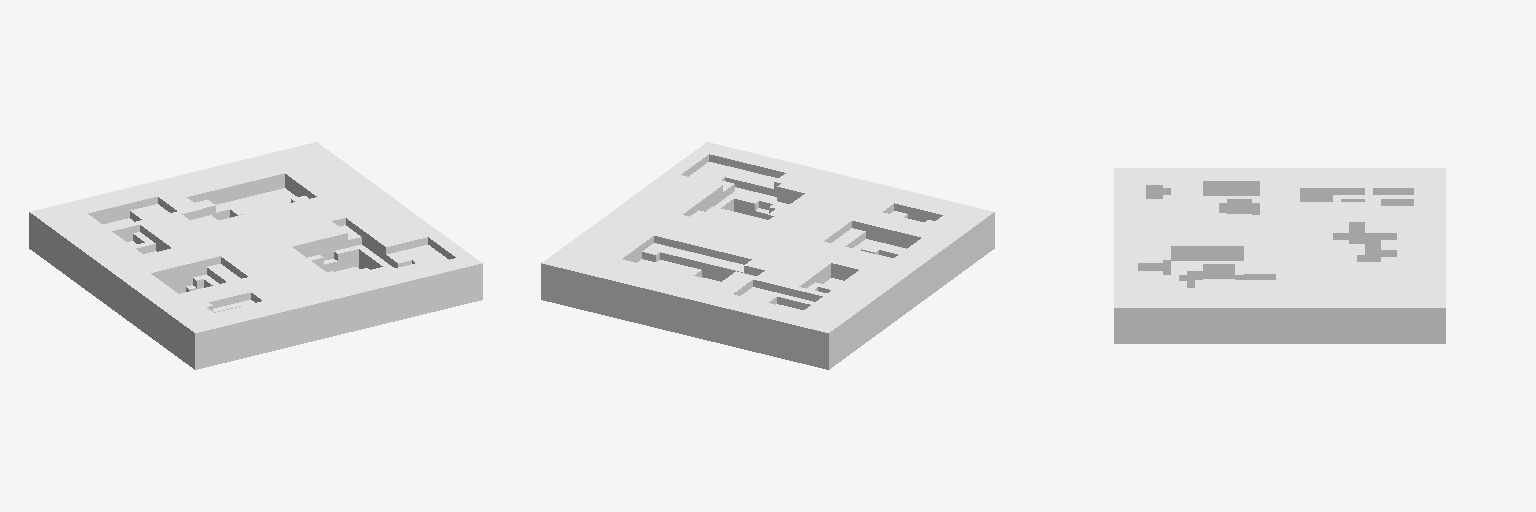
File: recta_suelo_roto.obj
3 views of the same model, side by side, from view 1: azimuth 30°, elevation 25°; view 2: azimuth 150°, elevation 25°; view 3: azimuth 270°, elevation 25° (orthographic).
Visible parts, largest first — view 1: recta_suelo_roto; view 2: recta_suelo_roto; view 3: recta_suelo_roto.
Boxes of the visible parts, box(x1,y1,x2,y2) form: recta_suelo_roto: box(29, 142, 482, 369); recta_suelo_roto: box(541, 142, 994, 369); recta_suelo_roto: box(1114, 168, 1445, 343).
Bounding box in the file's own units: 41 × 5 × 41.